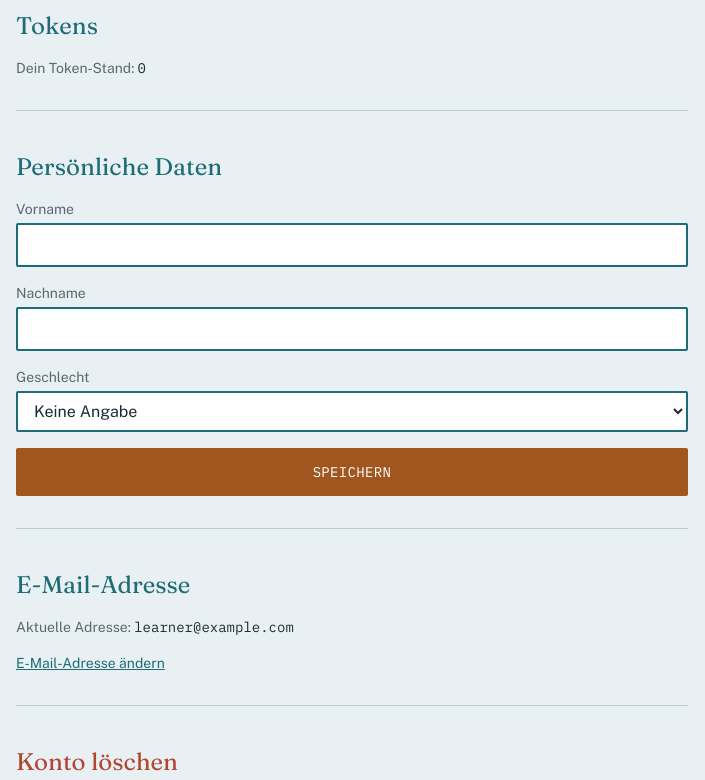
Test: ProfileAccountPage › shows an error message when saving personal info fails
The image size is (705, 780).
Step 1. Click the button "Speichern" → click(352, 472), box [16,448,688,496]
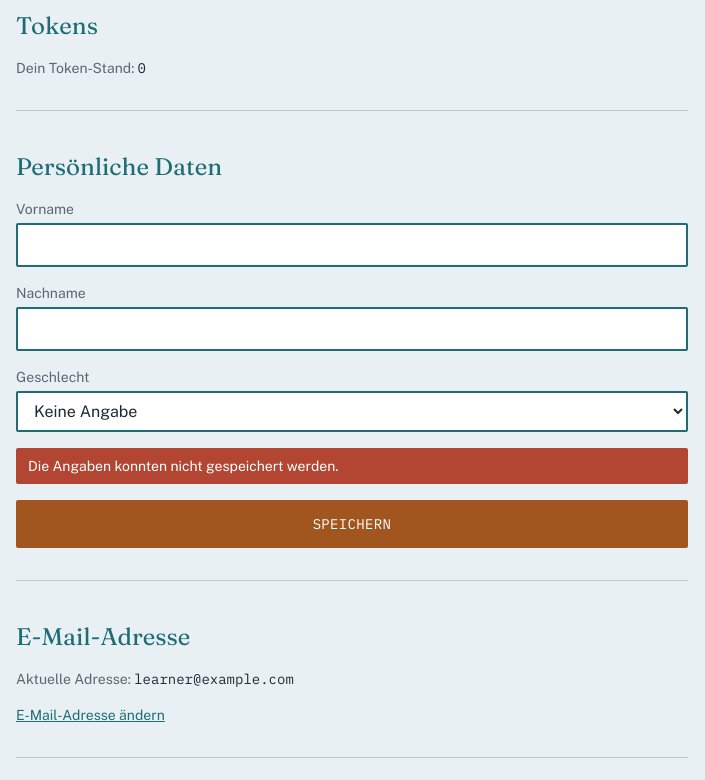
Check: the text "Die Angaben konnten nicht gespeichert werden." is shown, box [28,456,338,476]
